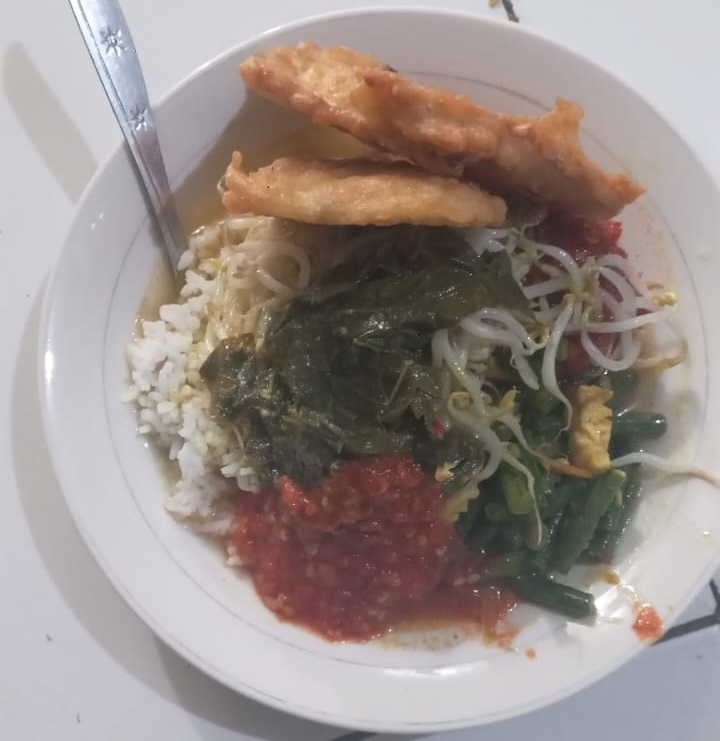Gorengan: (238, 37, 603, 223)
Nasi: (118, 276, 215, 512)
Sambal: (244, 473, 462, 619)
Sayur_daun_singkong: (235, 328, 415, 443)
Tumis_toge_kacang_panjang: (484, 244, 678, 558)
